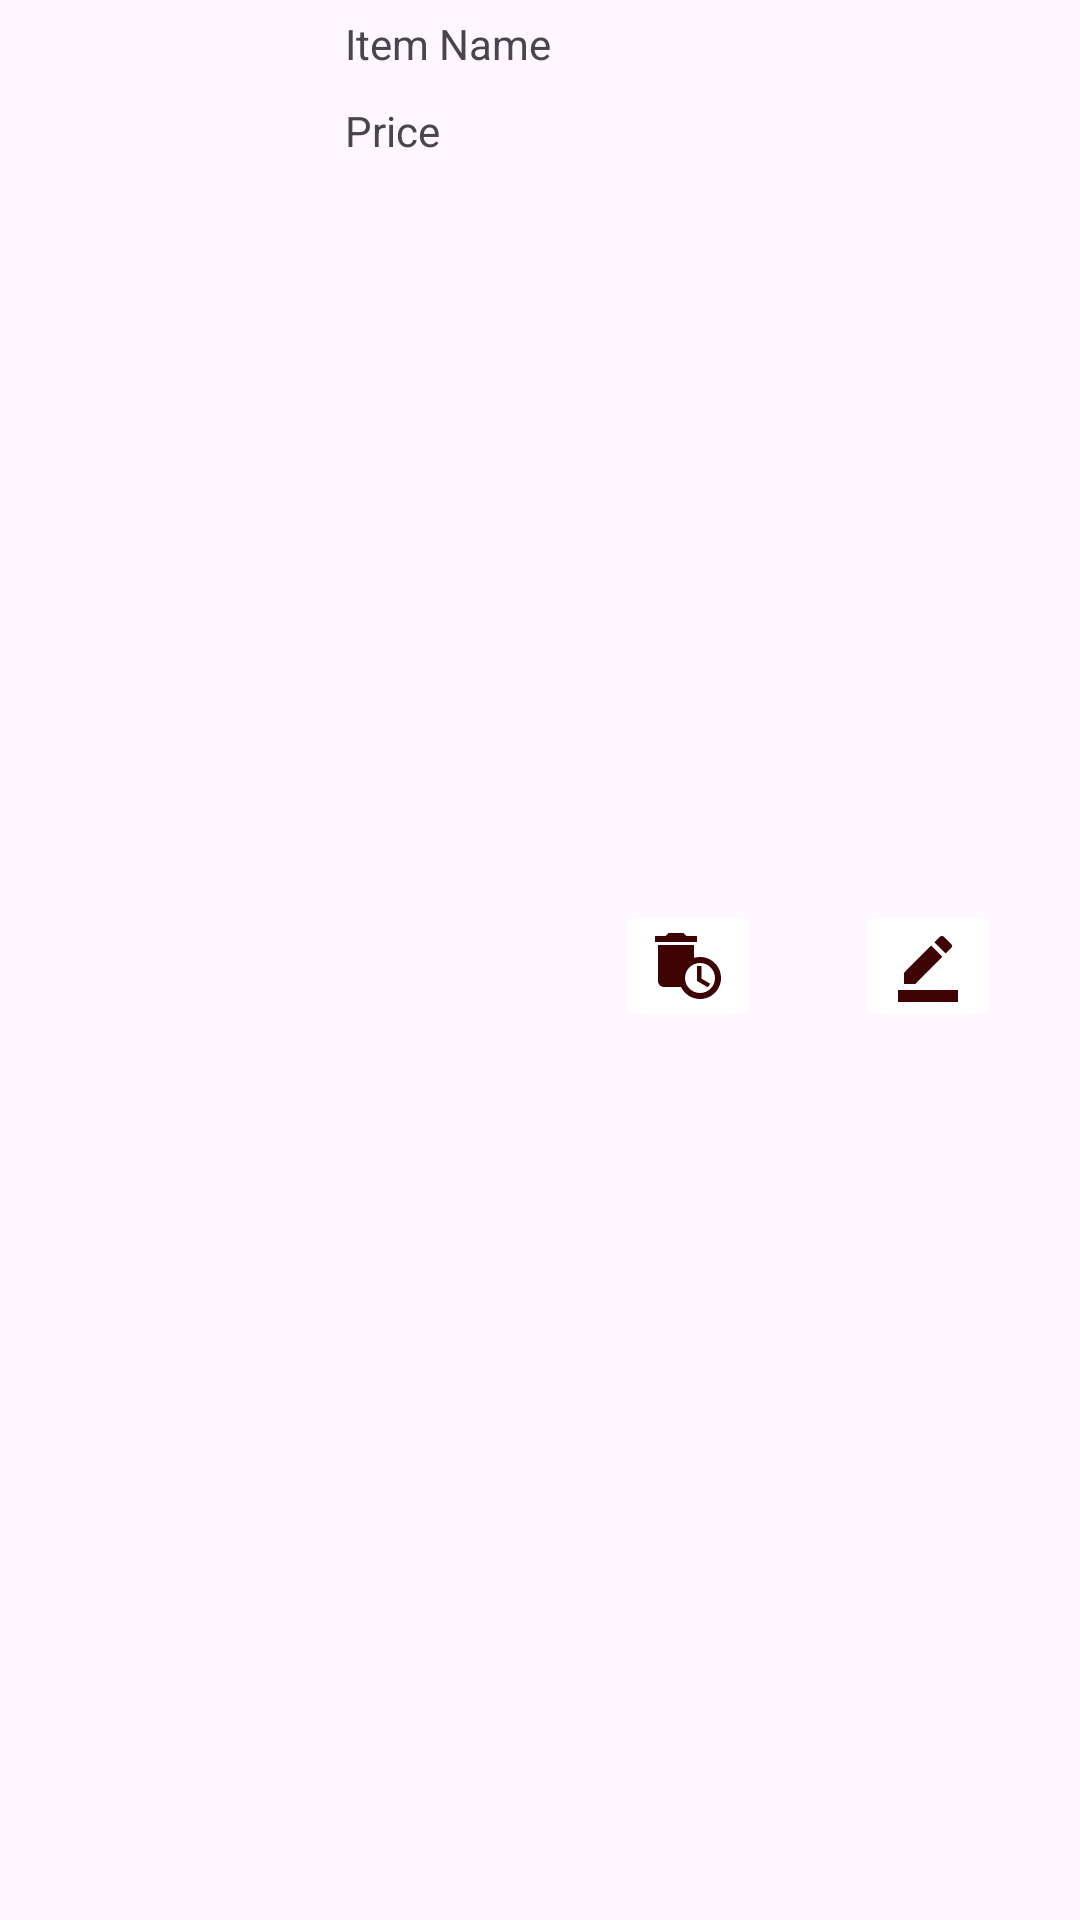

Where to tap for icons on this 1080px×1920px app screen, as point (x, y):
deleteitem: point (688, 966)
edit: point (928, 969)
